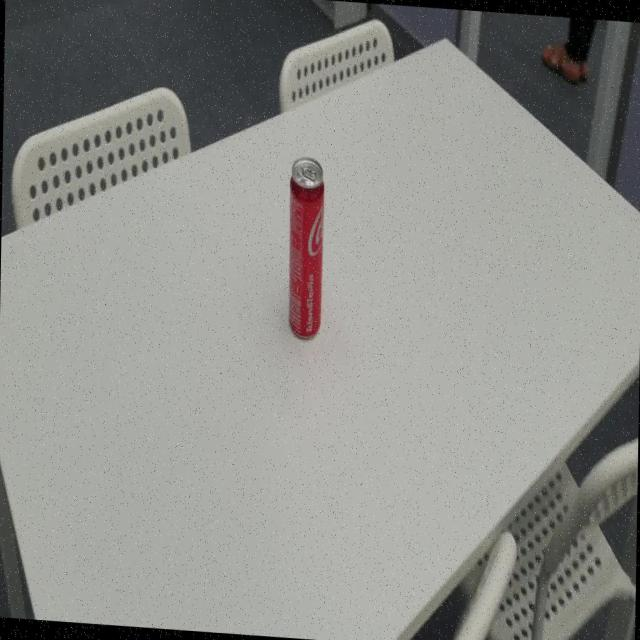coca-cola: (285, 153, 325, 348)
